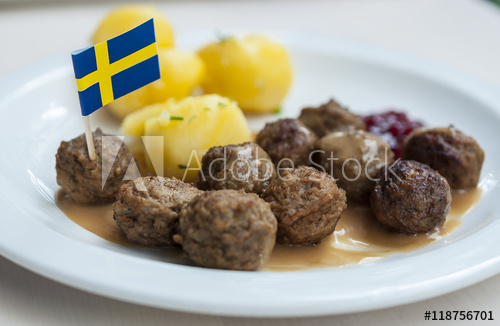boiled potatoes: (124, 92, 253, 172), (202, 37, 296, 110)
meatballs: (59, 122, 487, 274)
